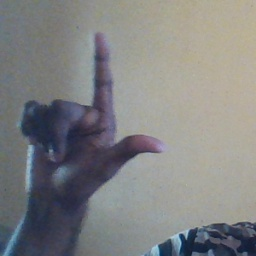L: (20, 31, 164, 199)
